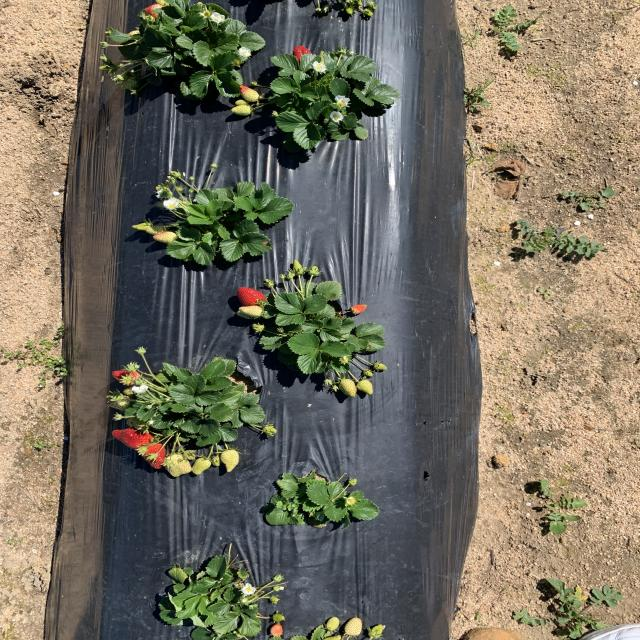unripe: (110, 427, 153, 447), (141, 442, 166, 470), (236, 285, 266, 308), (111, 369, 147, 384), (292, 45, 315, 62), (352, 303, 369, 314)
